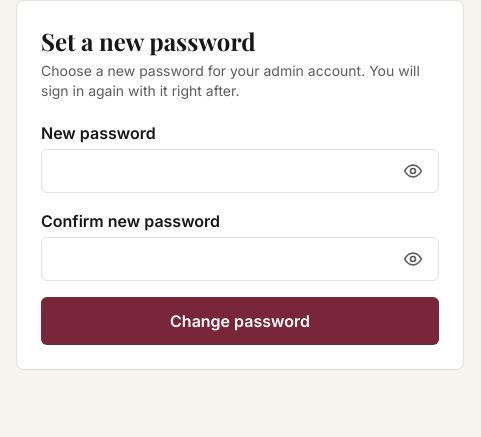
Test: ResetPasswordForm › shows an error and does not call the action on mismatched passwords
In the password field labelled "New password": (240, 171) x1=41 y1=149 x2=439 y2=193, type "new-secret-123"
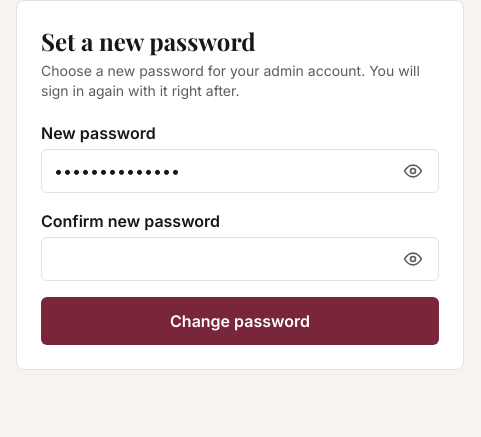
In the password field labelled "Confirm new password": (240, 259) x1=41 y1=237 x2=439 y2=281, type "different"
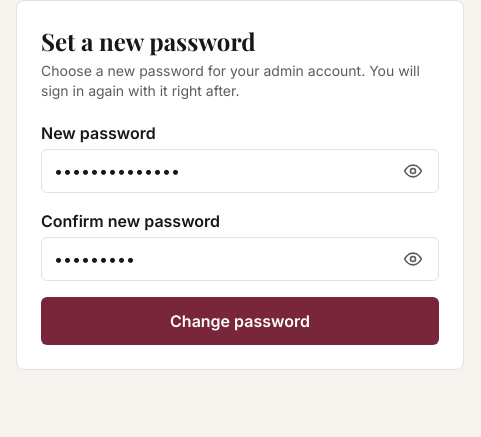
Click the button "Change password": (240, 321) x1=41 y1=297 x2=439 y2=345
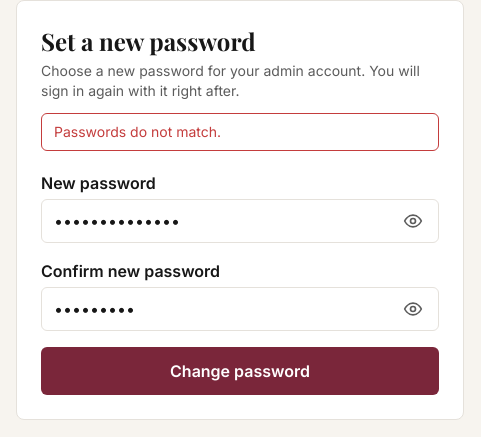
Check: the text "Passwords do not match." is shown, box x1=41 y1=113 x2=439 y2=151
